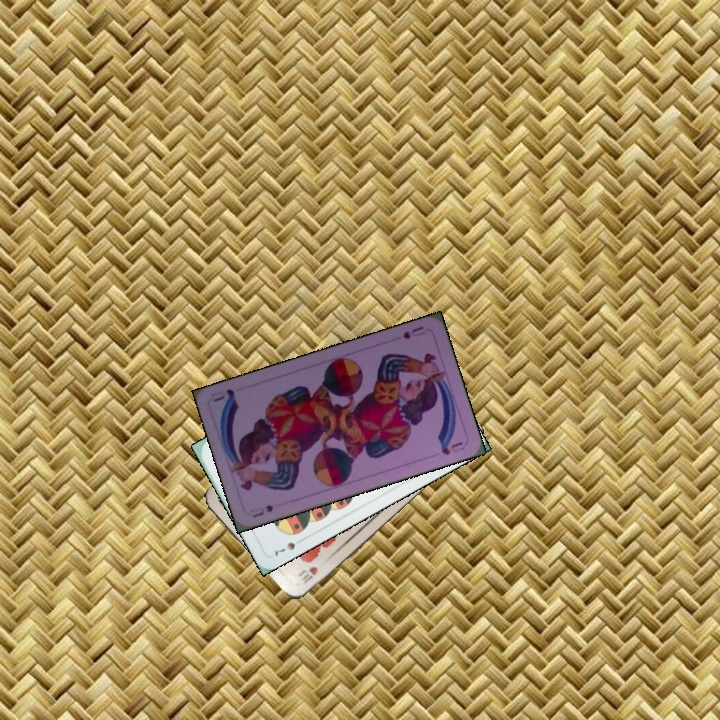H10: (295, 562, 321, 587)
S7: (270, 534, 306, 559)
SU: (399, 322, 428, 342), (249, 501, 276, 520)
